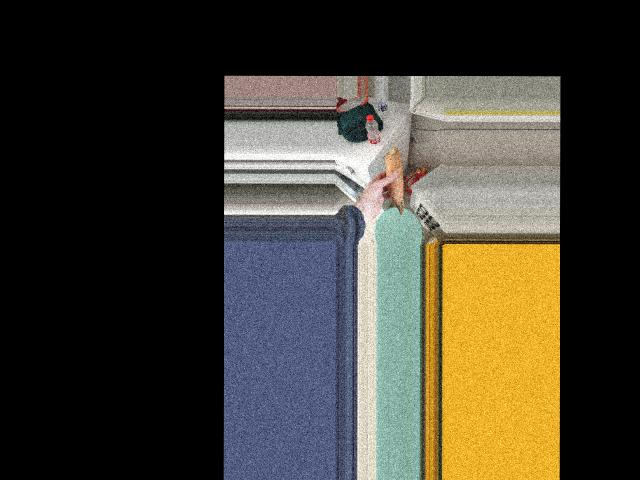sweet_potato: (383, 148, 402, 211)
